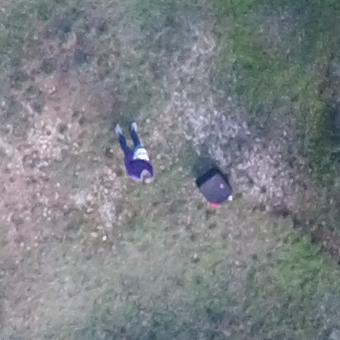human: (110, 119, 156, 183)
